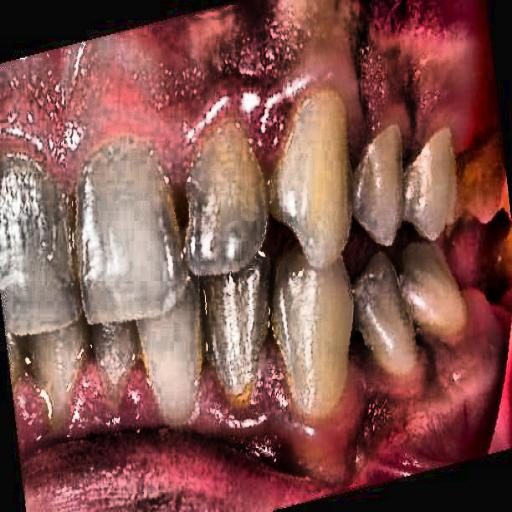Gingivitis: (1, 34, 300, 168), (304, 0, 504, 141)
